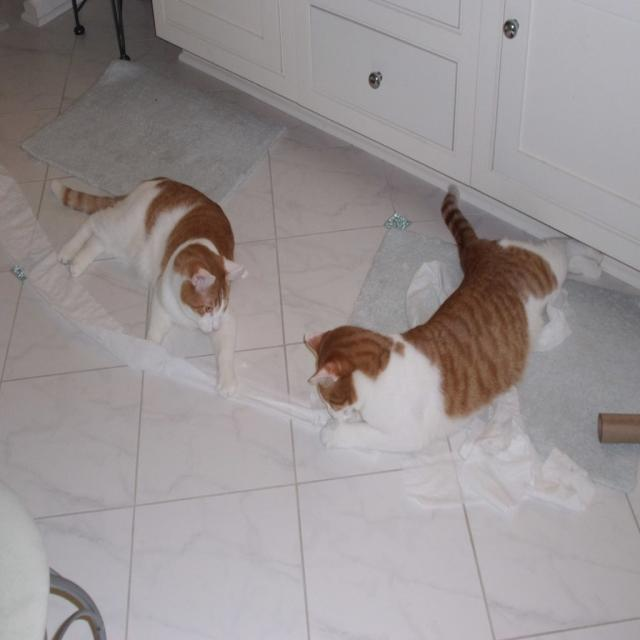Cat: (299, 184, 602, 450), (49, 178, 244, 404)
